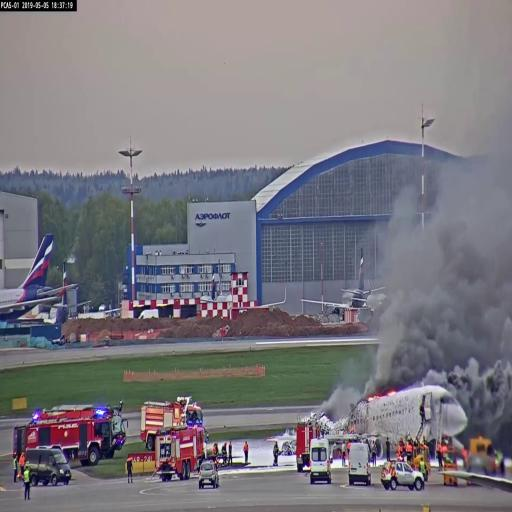smoke: (393, 288, 452, 386), (455, 357, 512, 418)
